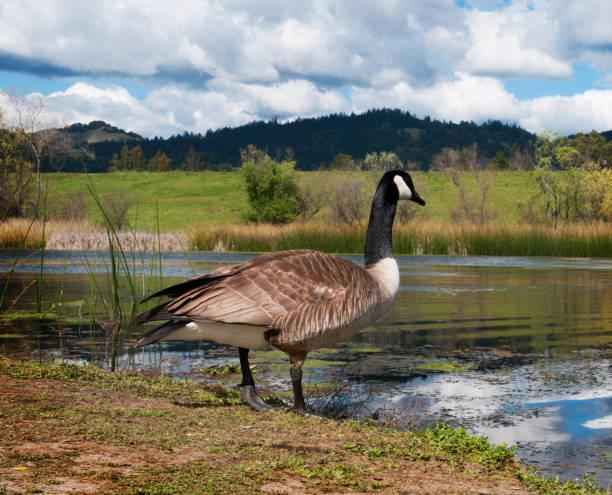Canadian-Goose: (130, 166, 425, 412)
